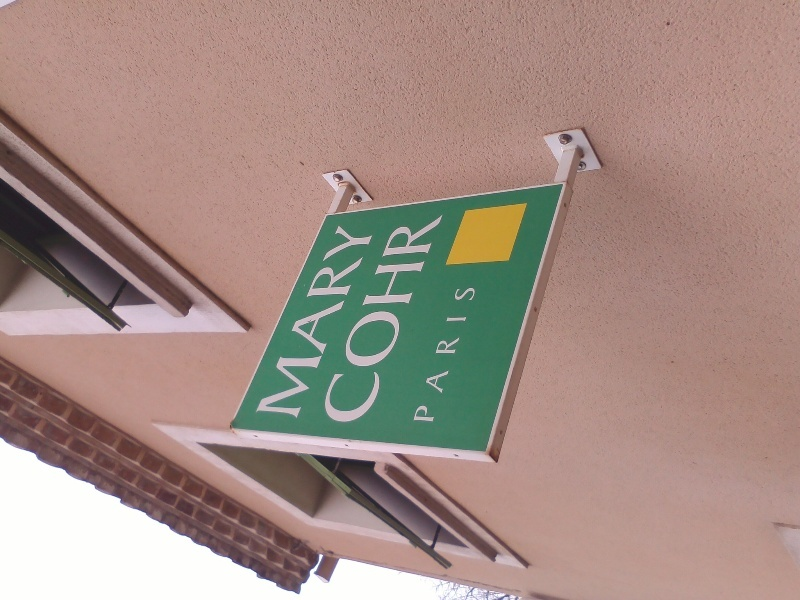text: (321, 214, 336, 428), (337, 214, 352, 428), (353, 214, 368, 428), (369, 214, 384, 428), (385, 214, 400, 428), (401, 214, 416, 428), (417, 214, 432, 428), (433, 214, 448, 428), (257, 220, 272, 420), (273, 220, 288, 420), (289, 220, 304, 420), (305, 220, 320, 420), (321, 220, 336, 420), (337, 220, 352, 420), (353, 220, 368, 420), (369, 220, 381, 420), (417, 287, 432, 425), (433, 287, 448, 425), (449, 287, 464, 425), (465, 287, 479, 425), (314, 214, 320, 428), (252, 220, 256, 420), (449, 214, 451, 428), (413, 287, 416, 425)
